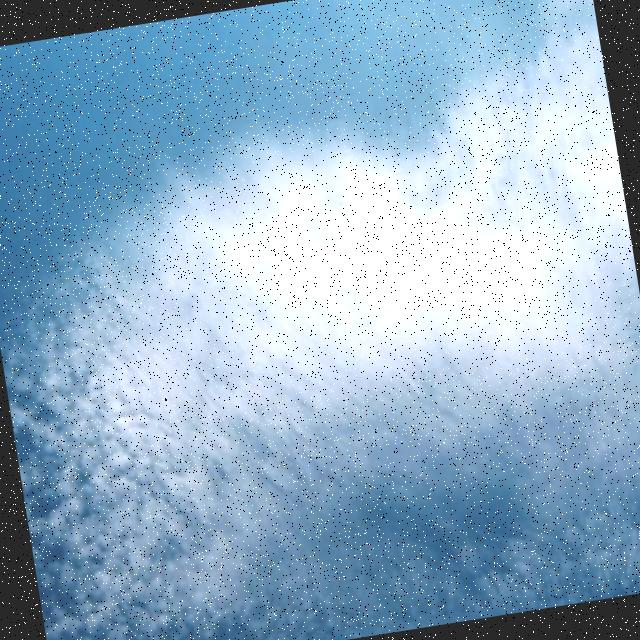Cc: (1, 65, 640, 640)
